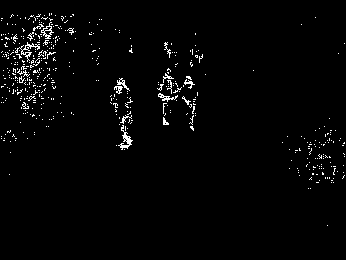person: (111, 76, 135, 151), (157, 68, 178, 127), (179, 75, 201, 131)
